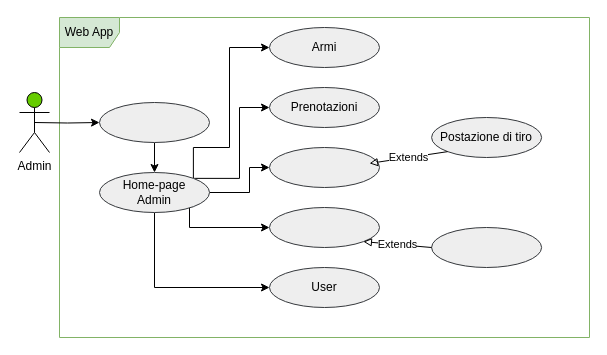
Image size: 607x355. Some labels were removed from this diagram. The shapes that lost their labels are listed below. From the top down, each one's box as (x1, y1, x2, y2) in pixels, then its label:
(98, 102, 210, 142): Login
(268, 146, 380, 188): Banchina
(268, 206, 380, 248): Istruttori
(431, 226, 542, 268): Valutazione
